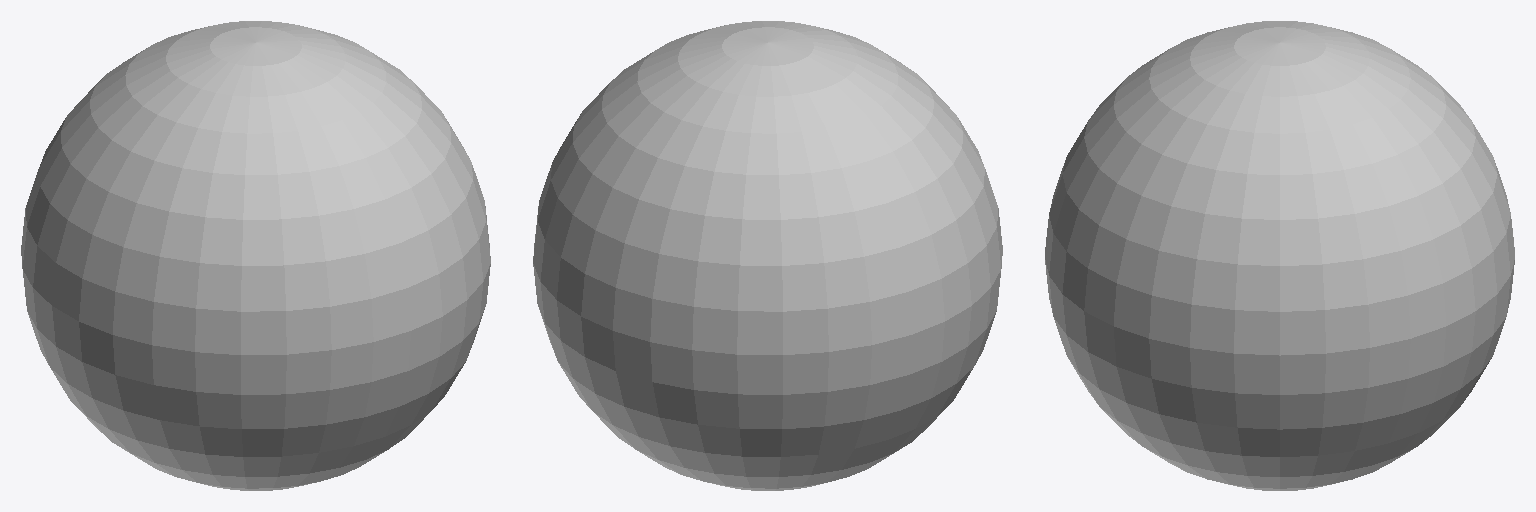
File: ganymede.obj
The picture shows the model from 3 angles: view 1: azimuth 30°, elevation 25°; view 2: azimuth 150°, elevation 25°; view 3: azimuth 270°, elevation 25°; orthographic projection.
Parts seen in each view (by area): view 1: Sphere_Sphere.003; view 2: Sphere_Sphere.003; view 3: Sphere_Sphere.003.
Part boxes in pixels (left/top/right/bottom): Sphere_Sphere.003: left=21, top=21, right=490, bottom=490; Sphere_Sphere.003: left=533, top=21, right=1002, bottom=490; Sphere_Sphere.003: left=1045, top=21, right=1514, bottom=490.
Size of the model in its own units: 5.27 by 5.27 by 5.27.